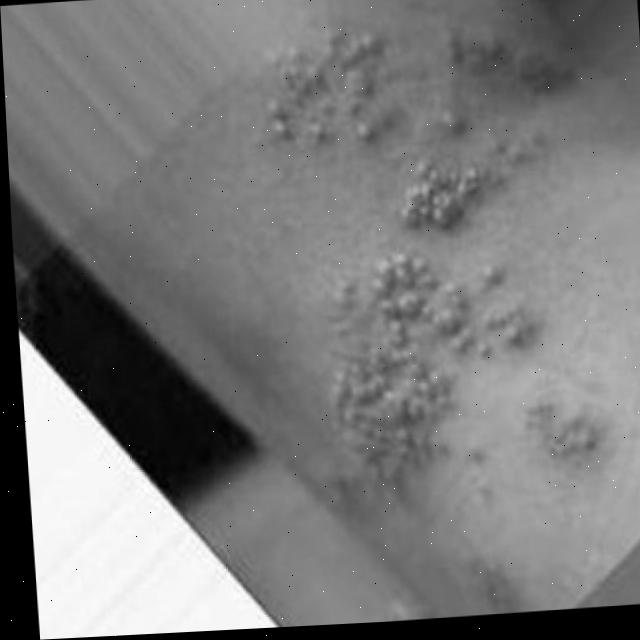Shingles: (262, 11, 589, 238), (318, 240, 601, 486)
